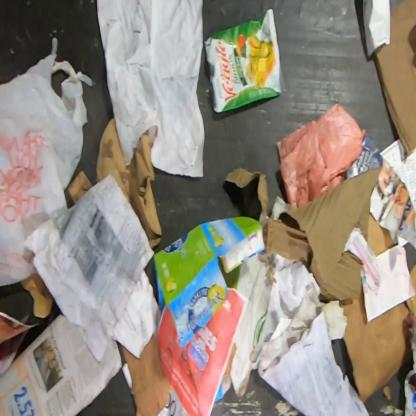cardboard: (225, 165, 394, 300), (153, 216, 264, 348), (68, 115, 162, 248), (339, 276, 412, 402), (375, 1, 415, 158), (122, 332, 170, 416)
soft_plastic: (0, 38, 92, 286), (277, 104, 365, 209), (204, 9, 281, 114)
